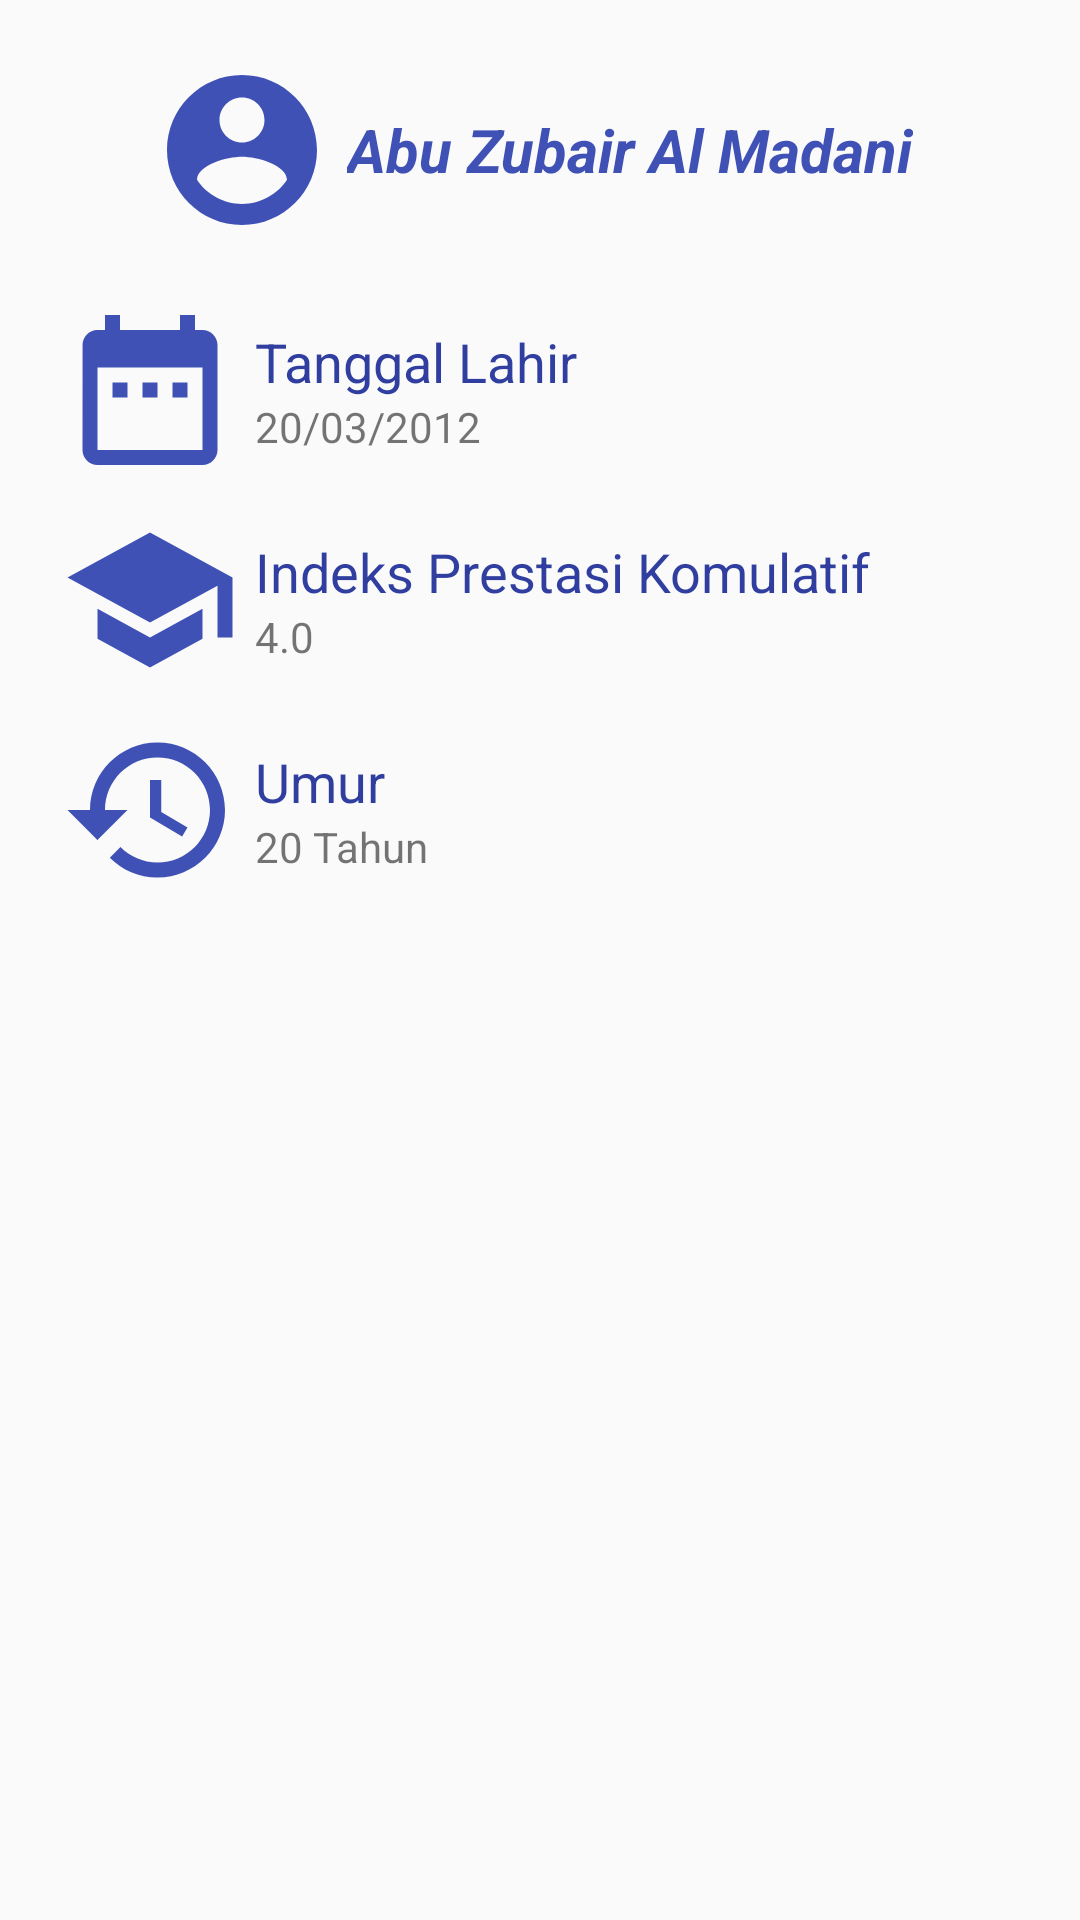

Screen size 1080 × 1920. Icon name, then its box in pixels as (x1, y1, x2, y2):
account: (167, 75, 317, 225)
date: (82, 315, 218, 465)
history: (68, 742, 225, 878)
school: (68, 532, 233, 668)
